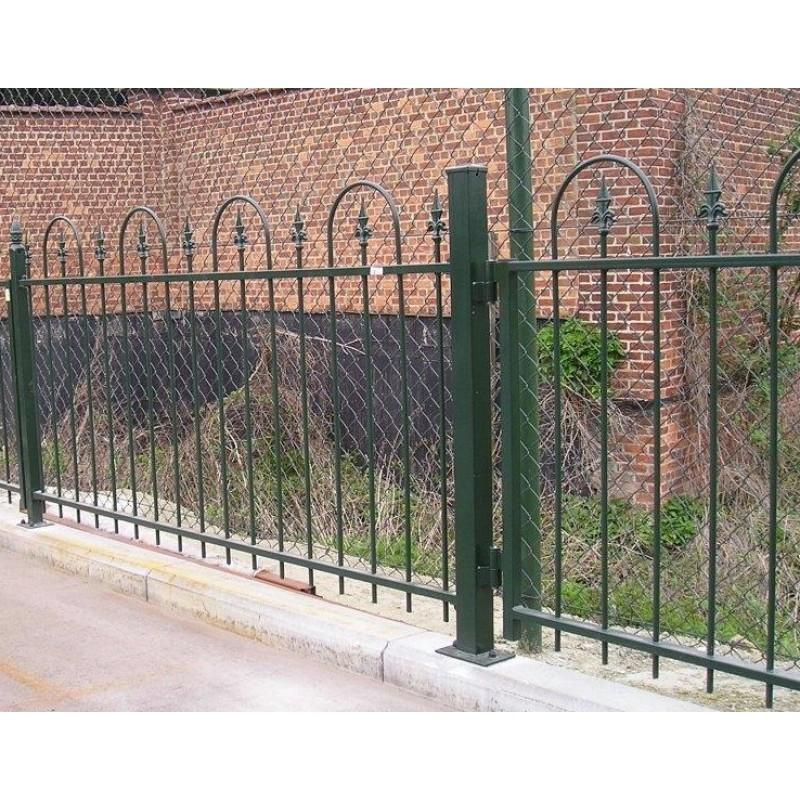obstacle: (0, 0, 800, 798)
